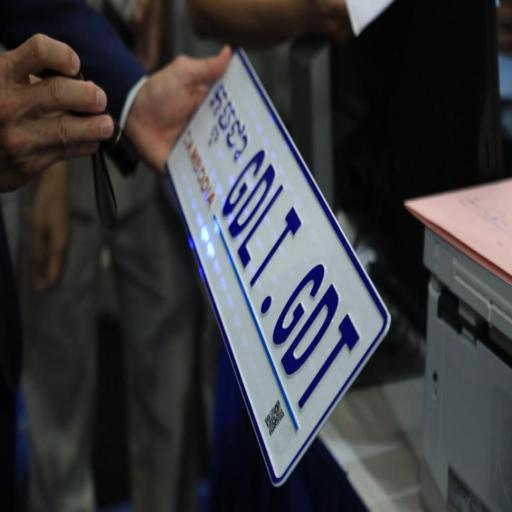Plate Number: (164, 51, 391, 480)
